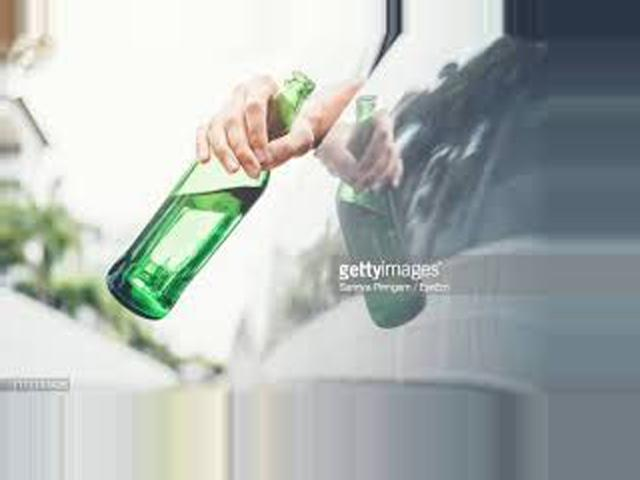beer: (108, 73, 318, 321)
